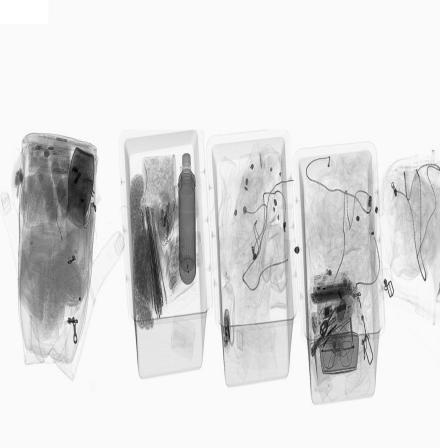Lighter: (46, 147, 65, 158)
